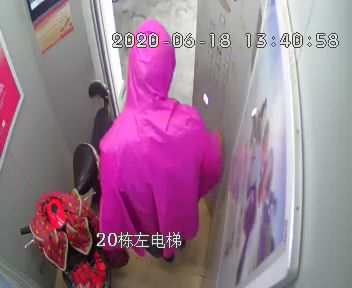Electric-bicycle: (17, 81, 118, 283)
